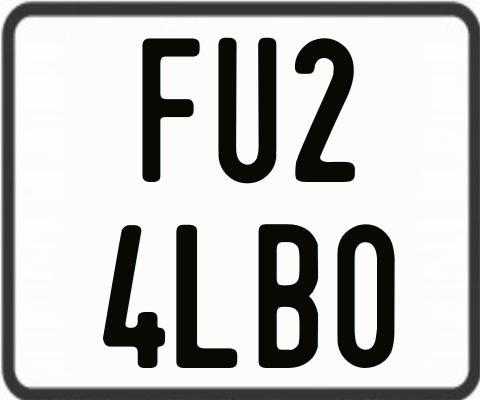0: (335, 224, 396, 369)
2: (295, 38, 361, 187)
4: (100, 223, 164, 369)
B: (256, 222, 317, 366)
F: (140, 38, 200, 182)
L: (173, 222, 235, 365)
U: (215, 35, 273, 182)
